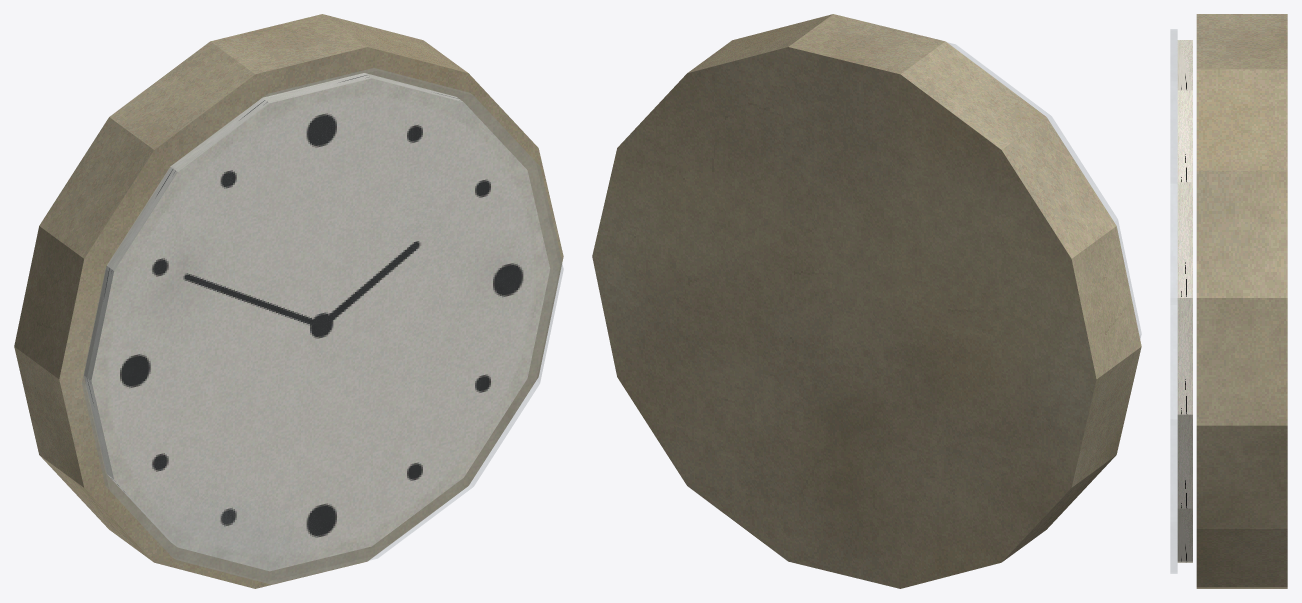
The model's file is wall_clock.glb.
3 renders of one model, left to right at view 1: azimuth 30°, elevation 25°; view 2: azimuth 150°, elevation 25°; view 3: azimuth 270°, elevation 25°, orthographic.
Visible parts, largest first — view 1: wall_clock; view 2: wall_clock; view 3: wall_clock.
Part boxes in pixels (box(x1,y1,x2,y2)): wall_clock: box(14, 14, 563, 588); wall_clock: box(592, 14, 1141, 588); wall_clock: box(1170, 14, 1287, 588).
Bounding box in the file's own units: 0.31 × 0.3022 × 0.062.
Materials: 3 (3 with a texture image).
